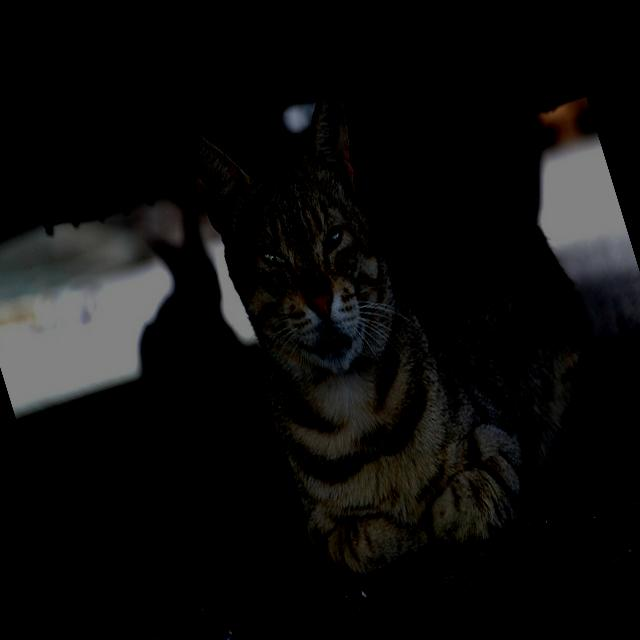Vehicle: (0, 0, 616, 383)
